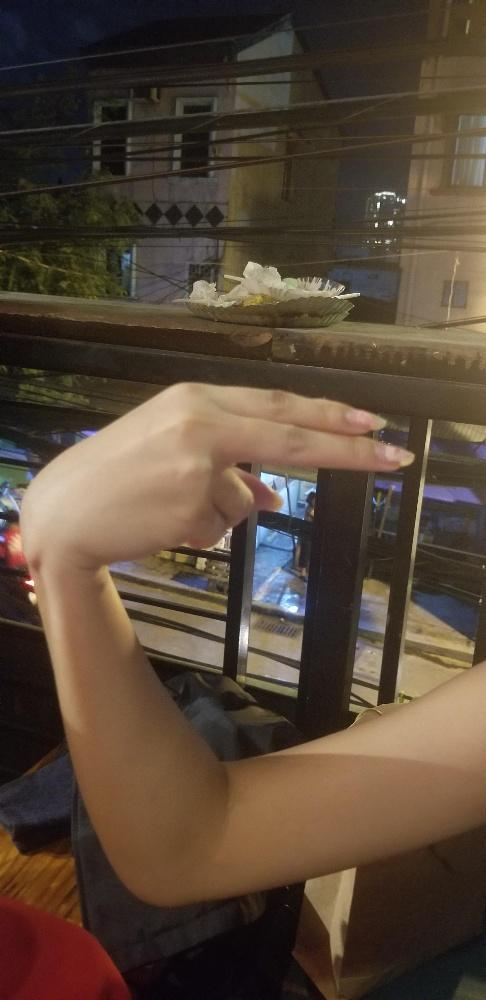h: (17, 376, 417, 567)
